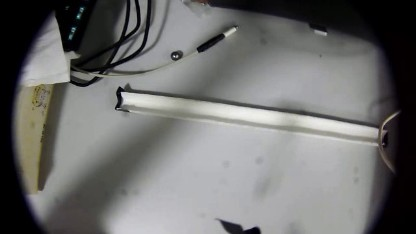gangzhu: (169, 49, 182, 61)
